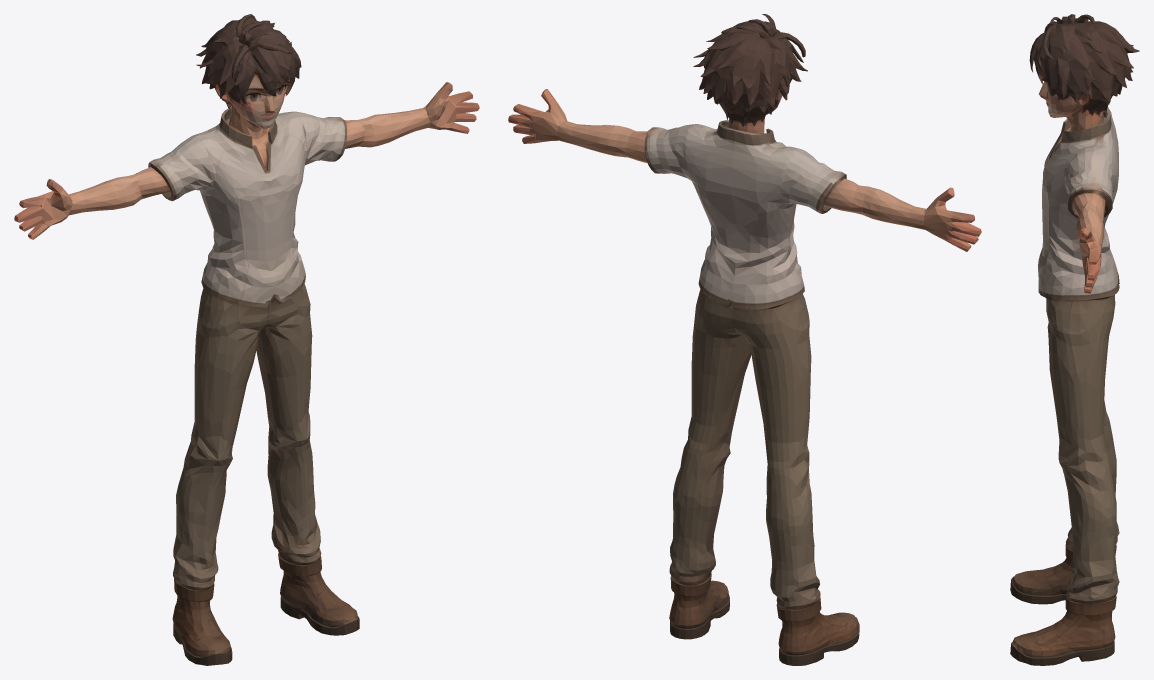
3 renders of one model, left to right at view 1: azimuth 30°, elevation 25°; view 2: azimuth 150°, elevation 25°; view 3: azimuth 270°, elevation 25°, orthographic.
Parts seen in each view (by area): view 1: material; view 2: material; view 3: material.
Part boxes in pixels (x1=…): material: x1=14, y1=14, x2=479, y2=665; material: x1=508, y1=14, x2=981, y2=665; material: x1=1010, y1=14, x2=1139, y2=665.
Size of the model in its own units: 1.51 by 1.9 by 0.3655.
Materials: 1 (1 with a texture image).
